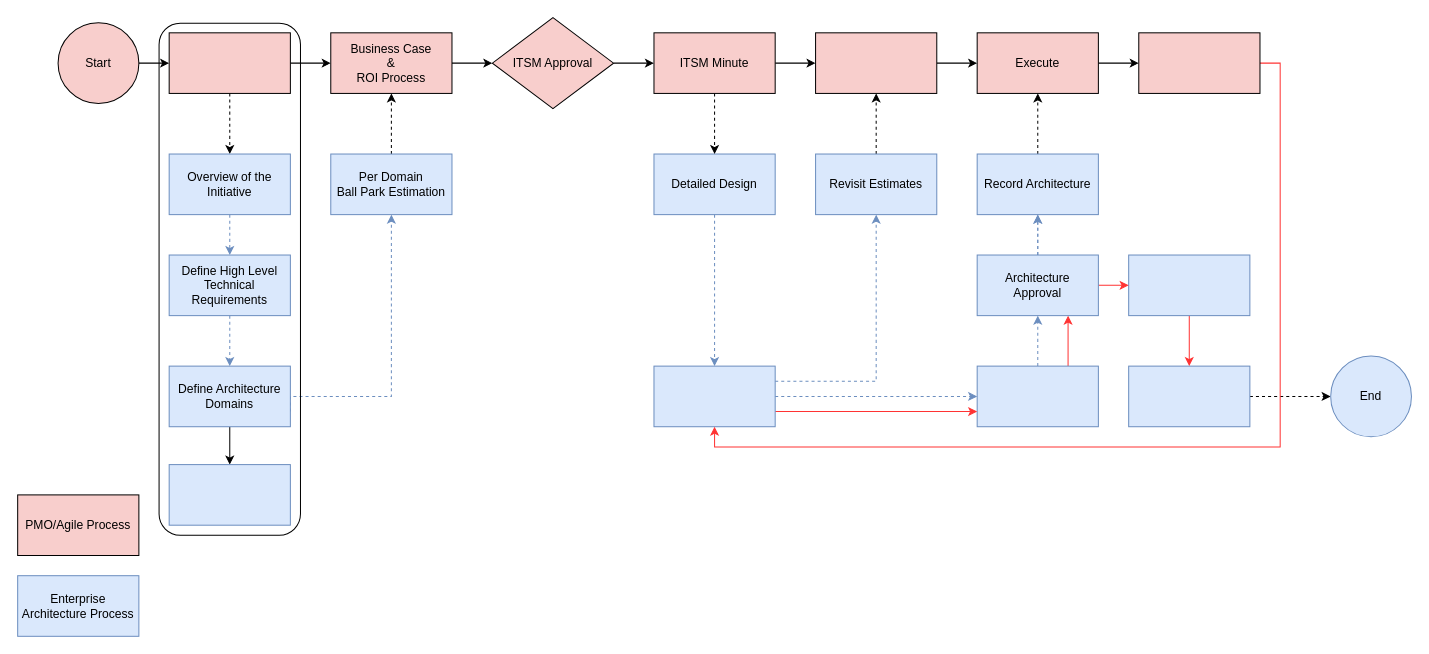
Some shapes in this 1429 by 654 pixel diagram are drawn without their labels. Each missing label, with the centre of its shape:
"Architecture Committee Review" goes at (1037,396).
"Architecture Versionung" goes at (1189,396).
"Change Request/ New Functionalities" goes at (1199,62).
"Define High Level Architecture Design" goes at (229,494).
"Gate II" goes at (876,62).
"Involve Architecture Committee" goes at (229,62).
"Low Level Architecture Design" goes at (714,396).
"Update Architecture" goes at (1189,285).
